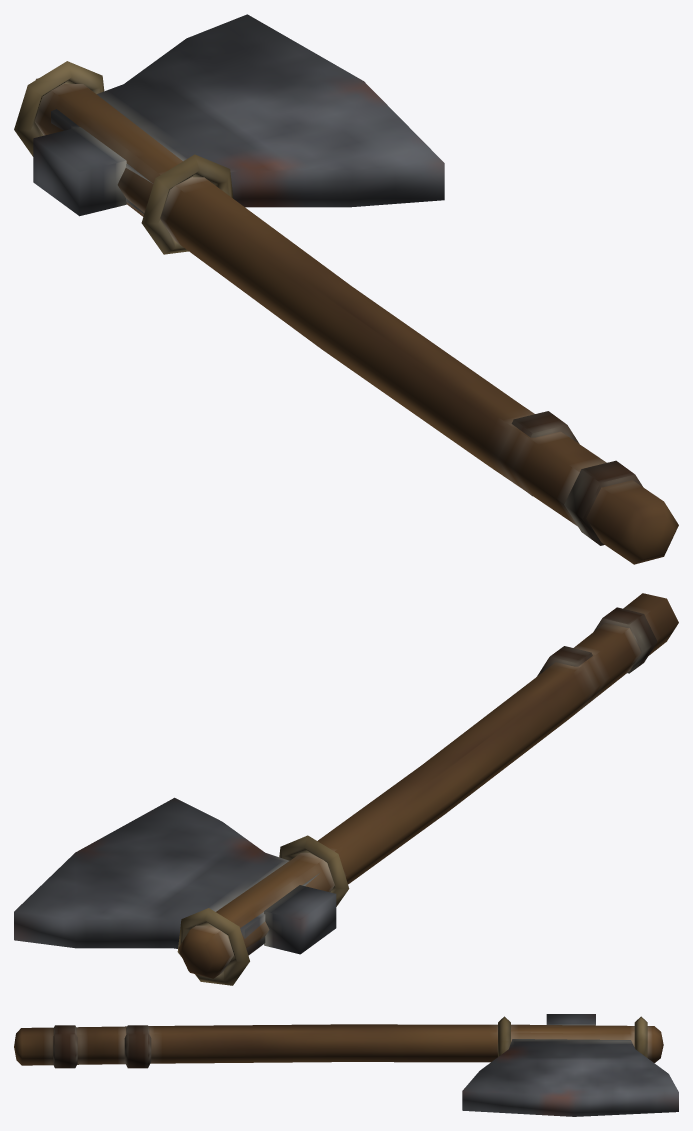
File: Prop_Axe.fbx
3 views of the same model, one above another, from view 1: azimuth 30°, elevation 25°; view 2: azimuth 150°, elevation 25°; view 3: azimuth 270°, elevation 25° (orthographic). The views are drawn at different scales.
Visible parts, largest first — view 1: Prop_Axe; view 2: Prop_Axe; view 3: Prop_Axe.
Part boxes in pixels (x1,y1,x2,y2): Prop_Axe: (14,14,678,564); Prop_Axe: (14,593,678,985); Prop_Axe: (14,1014,678,1116).
Bounding box in the file's own units: 0.132 × 0.0397 × 0.4572.
